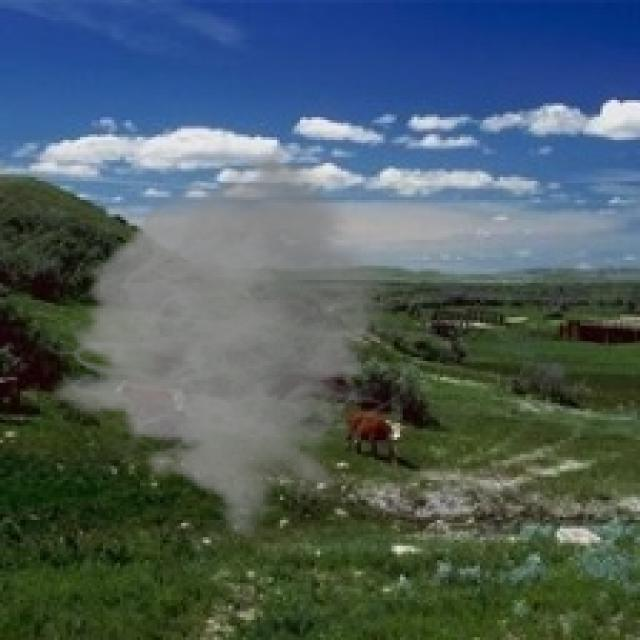smoke: (37, 151, 426, 540)
